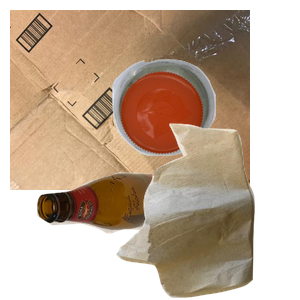cardboard: (10, 10, 250, 190)
glass: (34, 170, 223, 300)
plastic: (110, 57, 300, 205)
trash: (114, 121, 300, 300)
